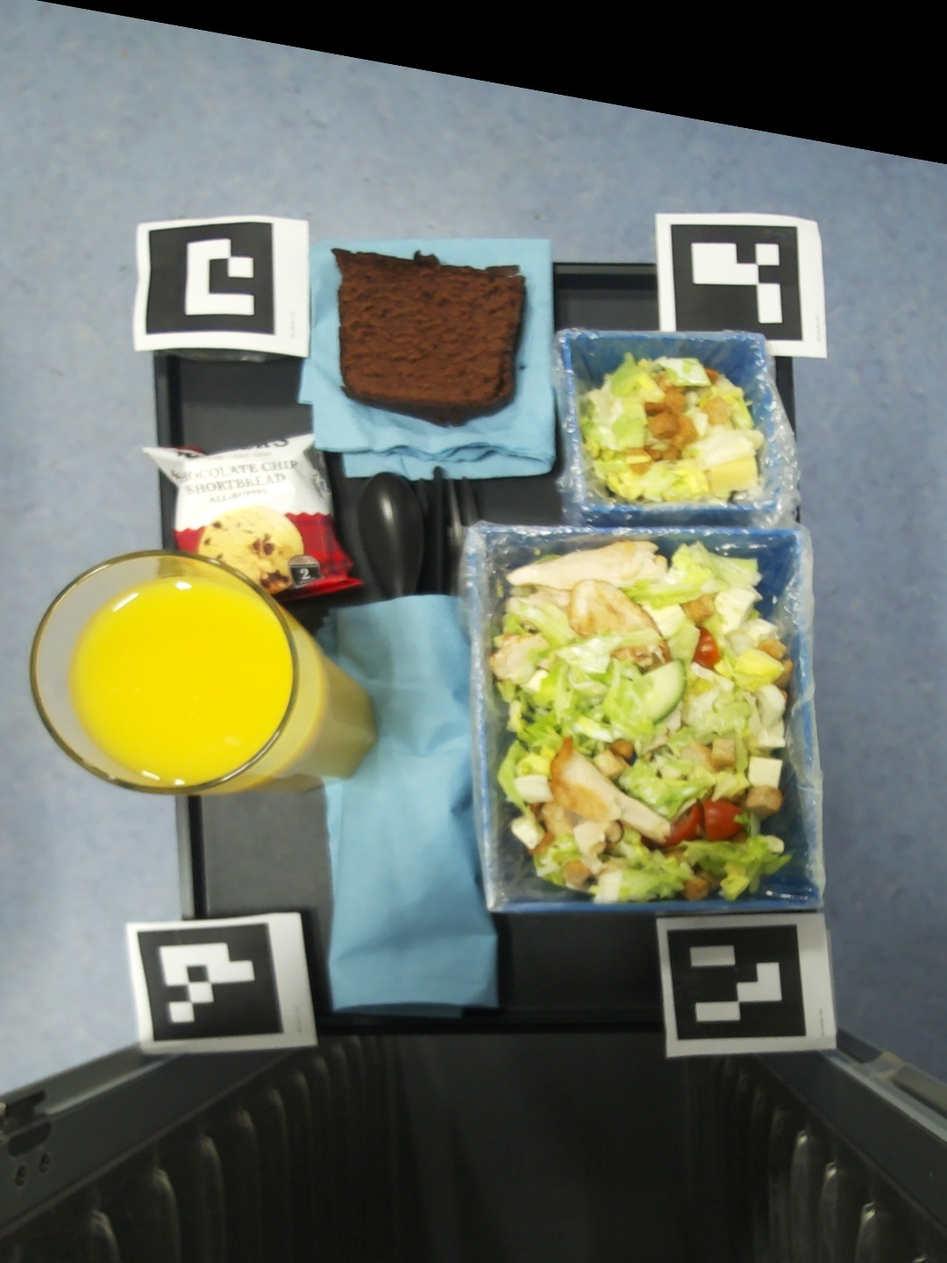brownie: (331, 249, 525, 424)
cookie: (140, 434, 365, 597)
orange_juice_bottle: (30, 550, 378, 795)
salad_main: (487, 539, 793, 903)
side_salad: (576, 350, 766, 503)
